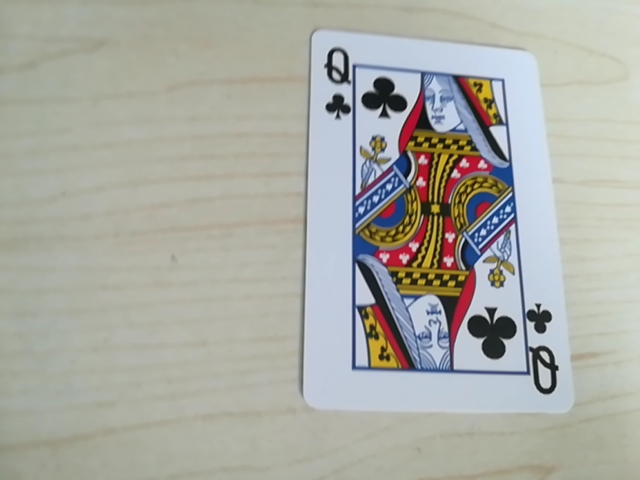mh q: (317, 39, 363, 117), (524, 314, 561, 398)
